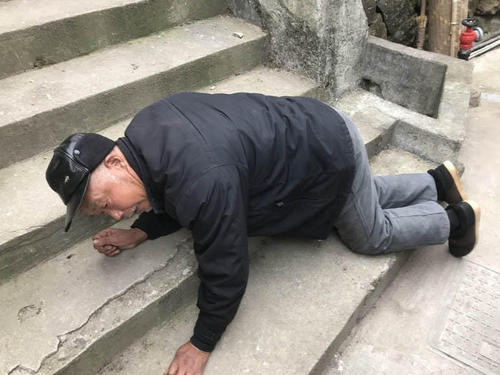falling: (13, 83, 497, 370)
